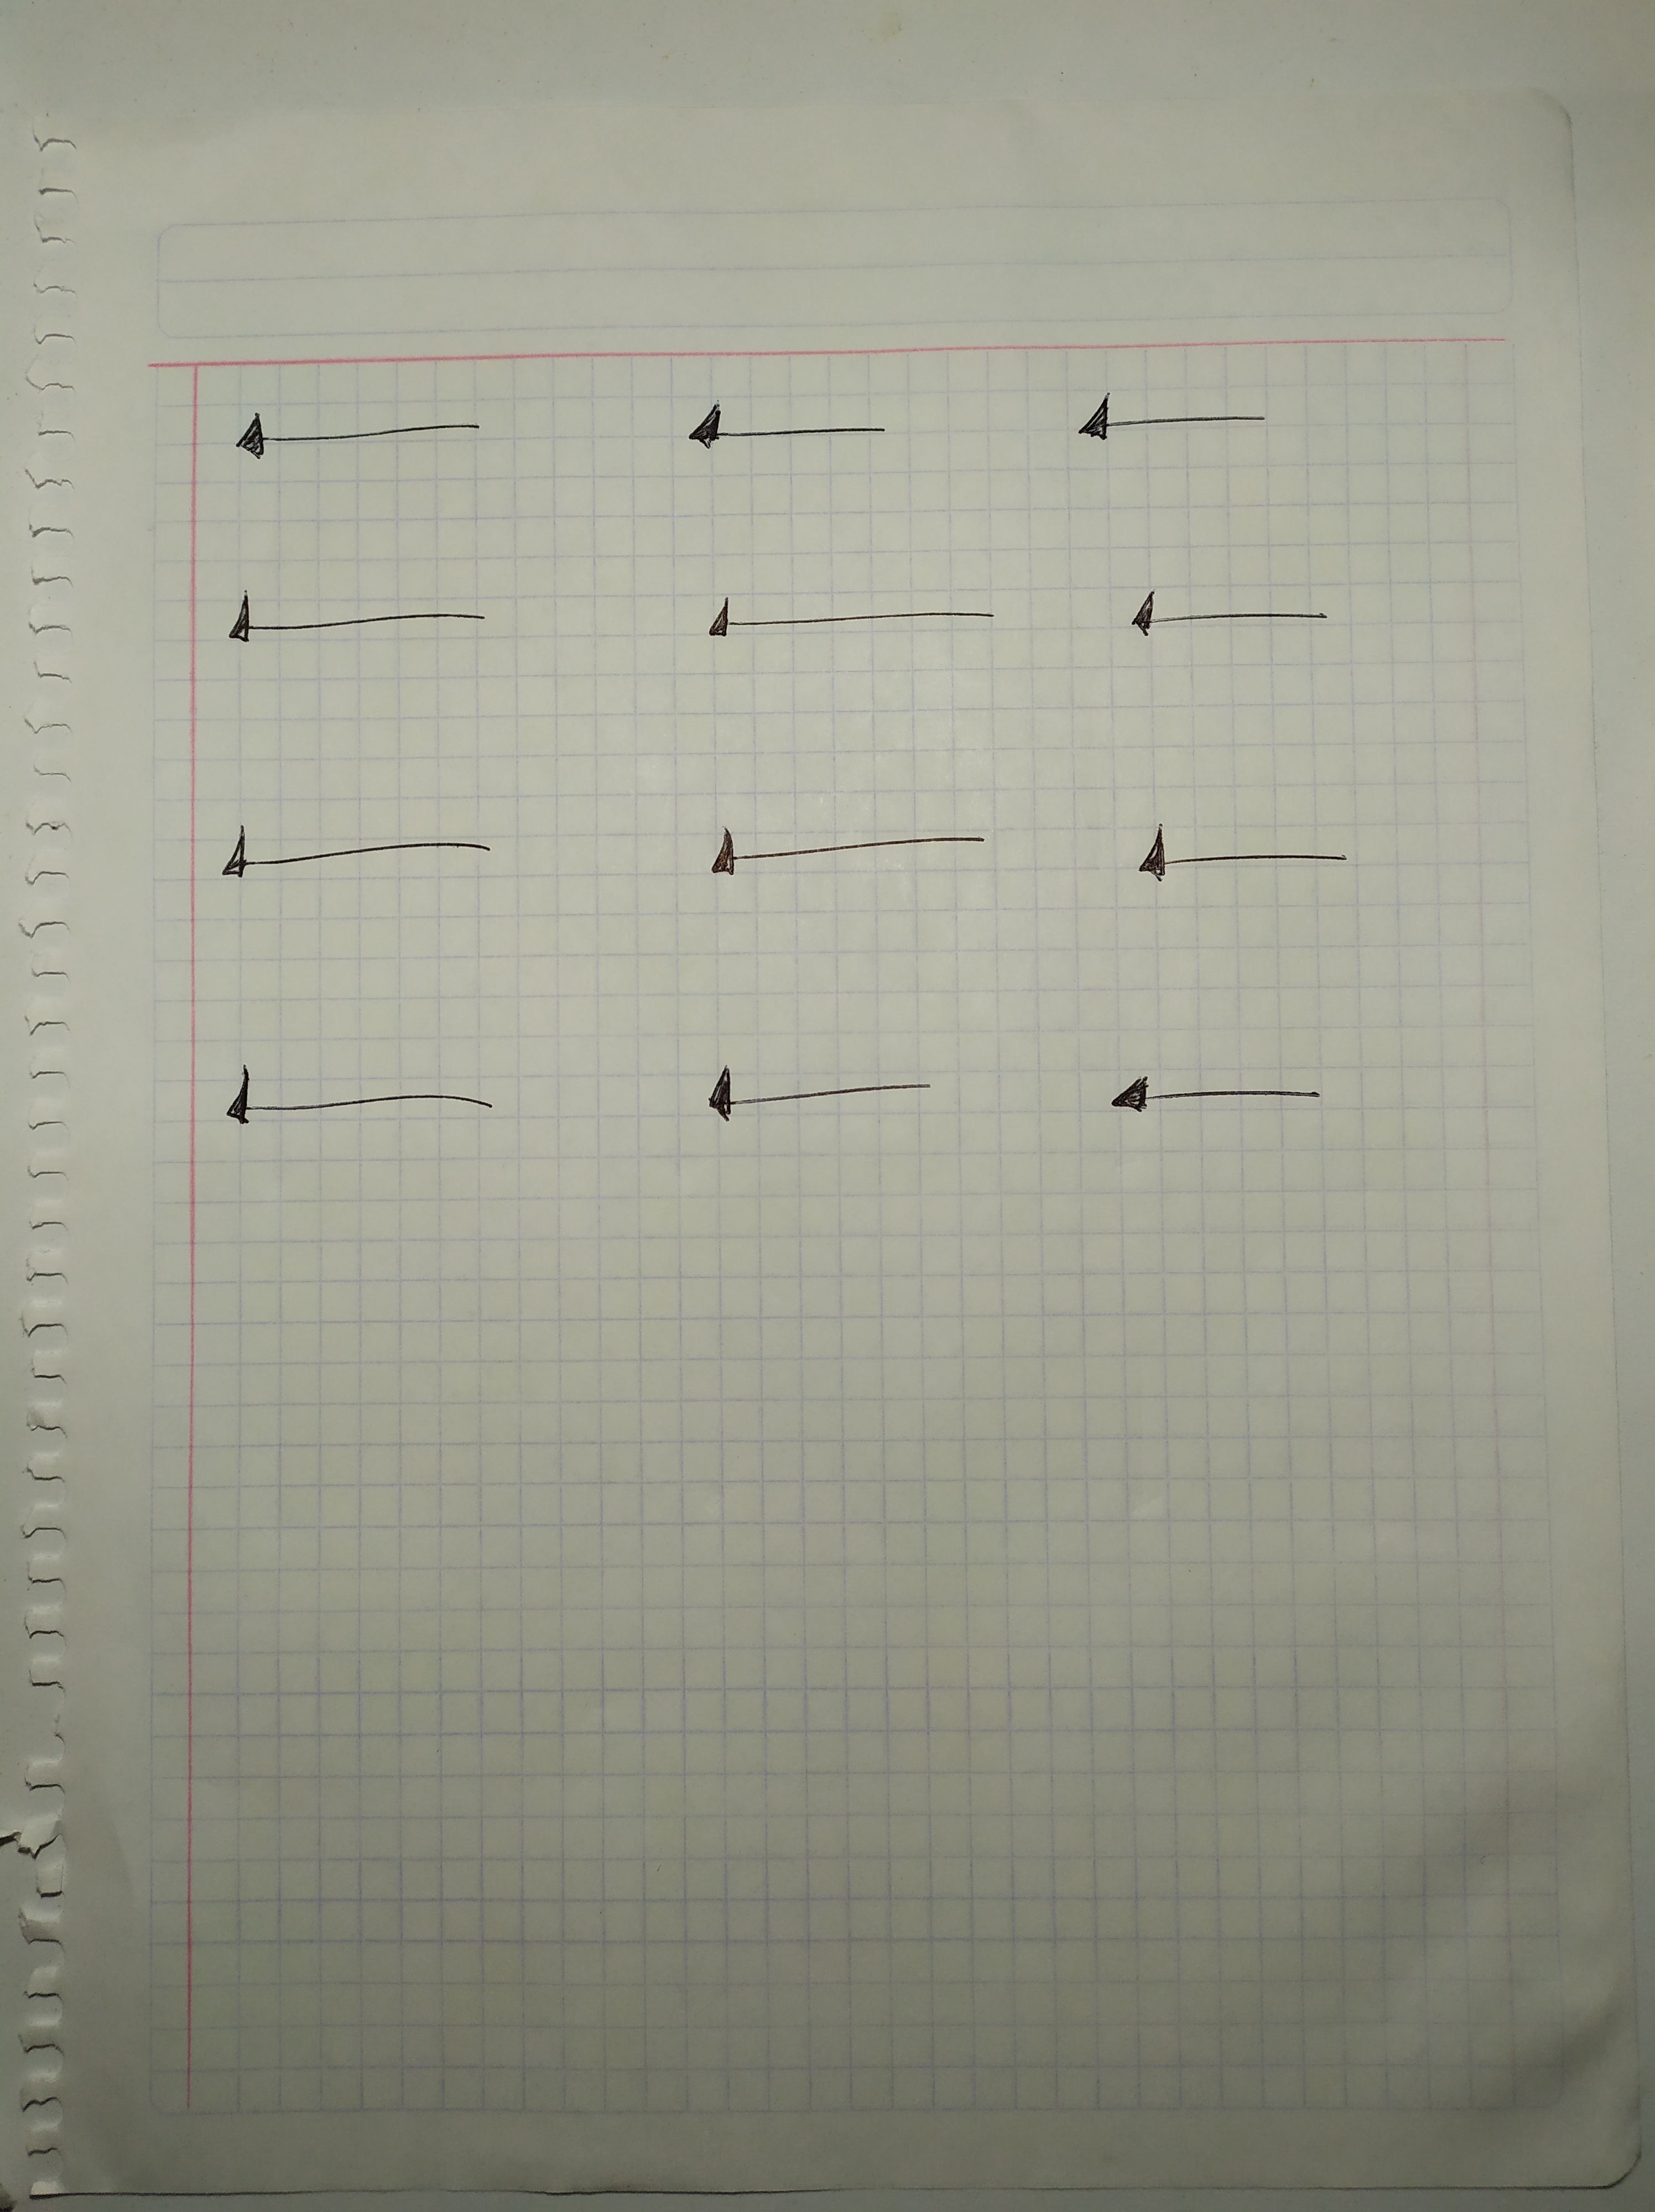arrow_line_left: (186, 1056, 546, 1154), (671, 791, 1007, 891), (202, 806, 525, 905), (198, 384, 506, 474), (1090, 1046, 1387, 1138), (200, 589, 515, 672), (657, 580, 1020, 652), (671, 381, 958, 467), (685, 1041, 972, 1126), (1102, 818, 1401, 900), (1057, 375, 1302, 462), (1118, 575, 1342, 652)
